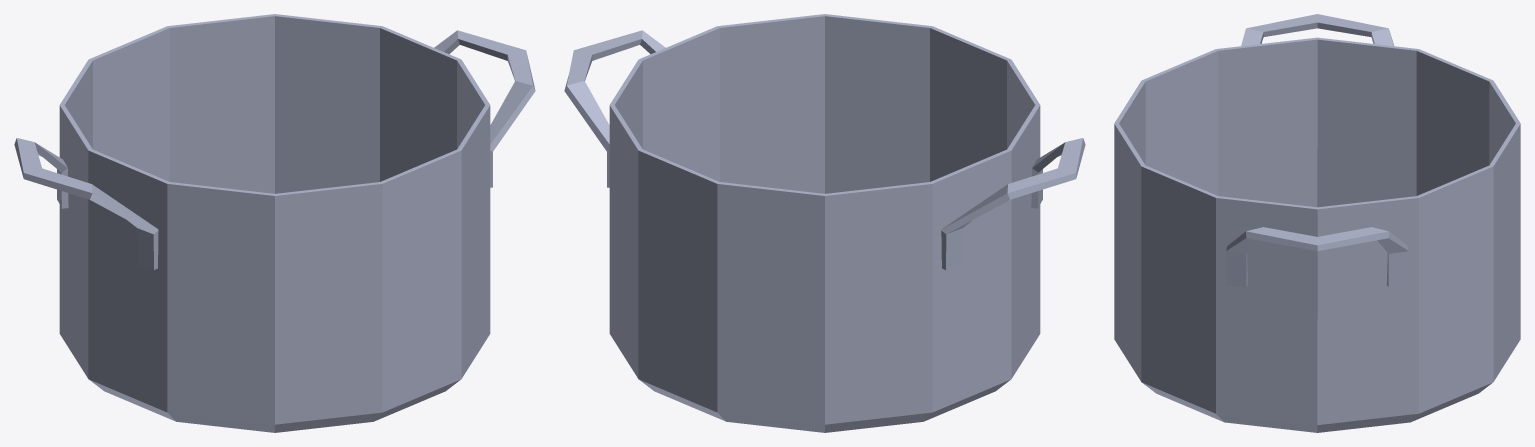
Rendered from prop_cookingPot.fbx.
3 renders of one model, left to right at view 1: azimuth 30°, elevation 25°; view 2: azimuth 150°, elevation 25°; view 3: azimuth 270°, elevation 25°, orthographic. The views are drawn at different scales.
Visible parts, largest first — view 1: Cooking Pot; view 2: Cooking Pot; view 3: Cooking Pot.
Part boxes in pixels (box(x1,y1,x2,y2)): Cooking Pot: box(14, 14, 535, 432); Cooking Pot: box(564, 14, 1085, 432); Cooking Pot: box(1114, 14, 1520, 432).
Size of the model in its own units: 0.2966 by 0.138 by 0.2202.
